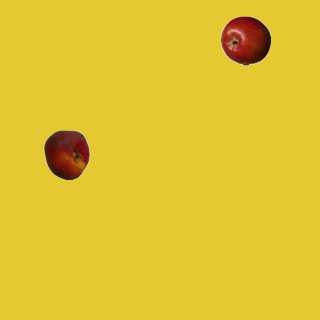Apple Braeburn: (220, 15, 270, 65)
Nectarine Flat: (41, 129, 91, 179)
